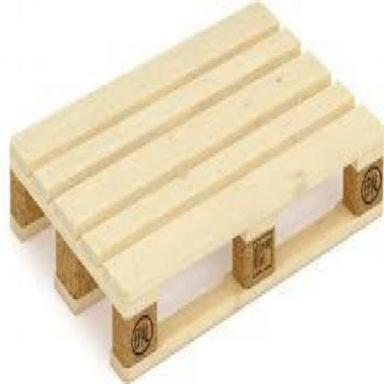pallet: (9, 0, 383, 384)
